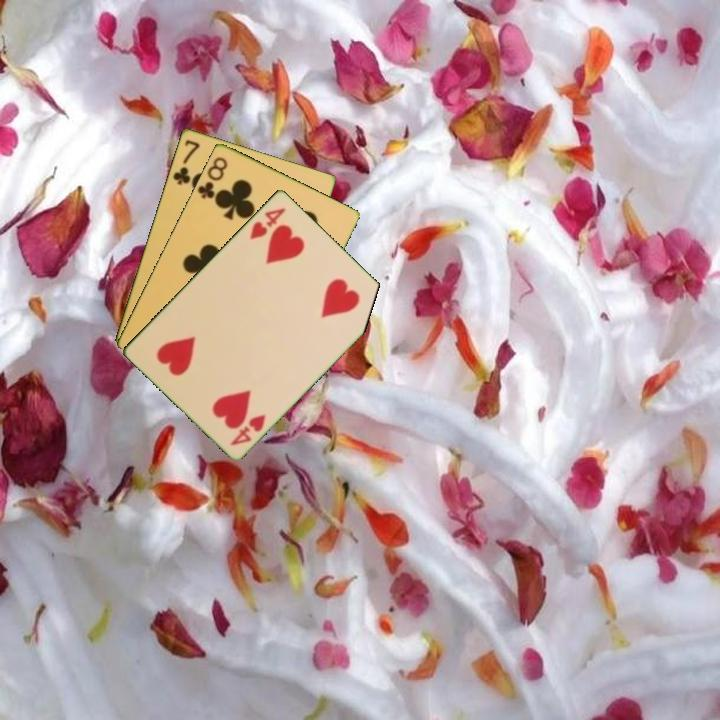4h: (246, 204, 289, 242), (226, 410, 269, 448)
7c: (169, 136, 202, 188)
8c: (194, 153, 230, 203)
